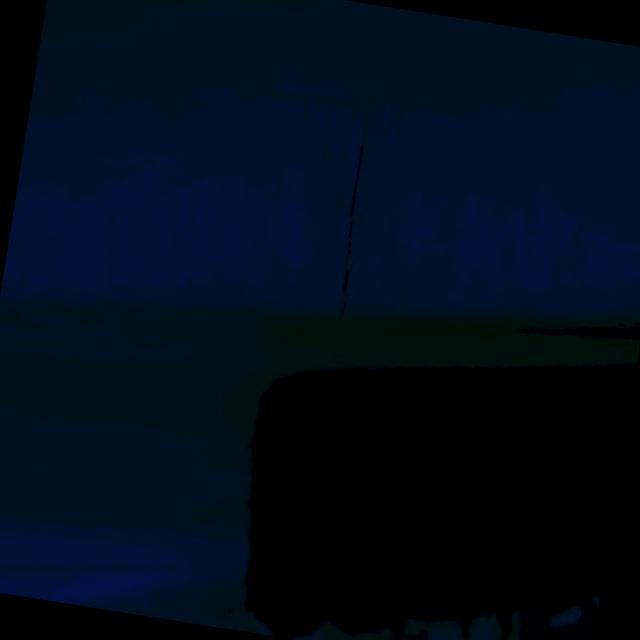crack: (331, 144, 372, 323)
